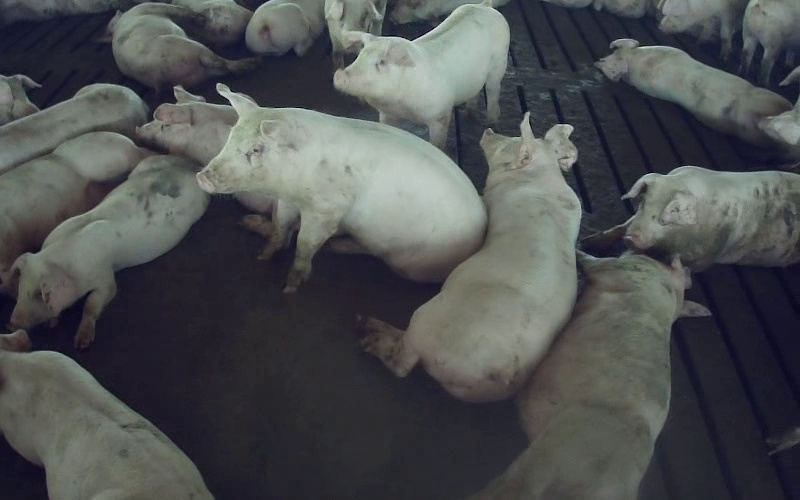pig: (360, 113, 580, 400), (476, 253, 707, 499), (3, 155, 208, 347), (334, 4, 509, 148), (0, 132, 150, 282), (583, 166, 799, 270), (595, 39, 790, 146), (108, 3, 256, 93), (0, 83, 148, 173), (136, 85, 237, 165)
